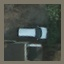car: (17, 27, 49, 40)
